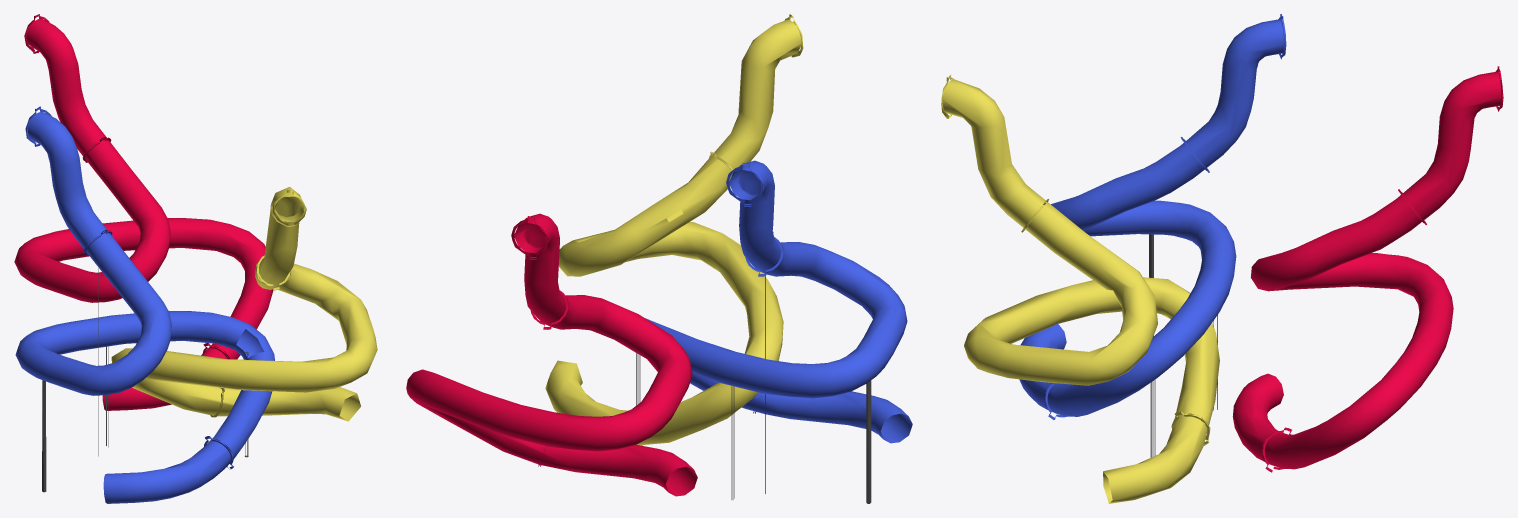
Rendered from water_slide.glb.
3 renders of one model, left to right at view 1: azimuth 30°, elevation 25°; view 2: azimuth 150°, elevation 25°; view 3: azimuth 270°, elevation 25°, orthographic. The views are drawn at different scales.
Parts seen in each view (by area): view 1: Water Slide blue, Water Slide Red, Water Slide Yellow; view 2: Water Slide Red, Water Slide Yellow, Water Slide blue; view 3: Water Slide Yellow, Water Slide Red, Water Slide blue.
Part boxes in pixels (x1,y1,x2,y2): Water Slide blue: (15, 106, 274, 503); Water Slide Red: (14, 14, 273, 410); Water Slide Yellow: (111, 187, 377, 421); Water Slide Red: (406, 213, 697, 496); Water Slide Yellow: (545, 14, 803, 445); Water Slide blue: (632, 160, 912, 503); Water Slide Yellow: (941, 75, 1219, 503); Water Slide Red: (1232, 66, 1503, 472); Water Slide blue: (1019, 14, 1286, 457).
Size of the model in its own units: 10.82 by 10.87 by 14.14.
